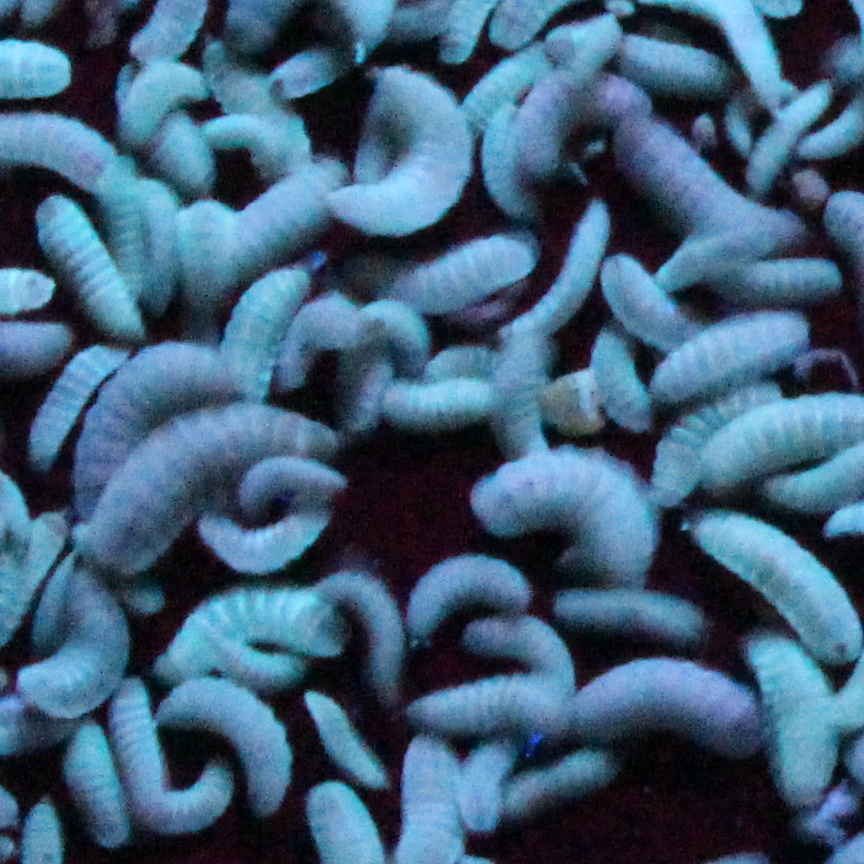larve: (70, 402, 350, 572), (458, 438, 662, 595), (608, 104, 798, 256), (686, 499, 863, 659), (327, 56, 468, 243), (154, 674, 302, 820), (578, 658, 772, 761), (645, 297, 818, 401), (499, 190, 613, 344), (33, 192, 148, 342), (19, 334, 139, 465), (319, 560, 421, 695), (392, 548, 547, 633), (95, 664, 176, 823), (208, 261, 296, 400), (186, 494, 326, 581), (550, 576, 713, 648), (298, 684, 393, 802), (186, 105, 319, 182), (391, 243, 536, 313), (374, 363, 508, 428), (117, 58, 209, 144), (229, 444, 348, 510), (342, 301, 426, 357)
